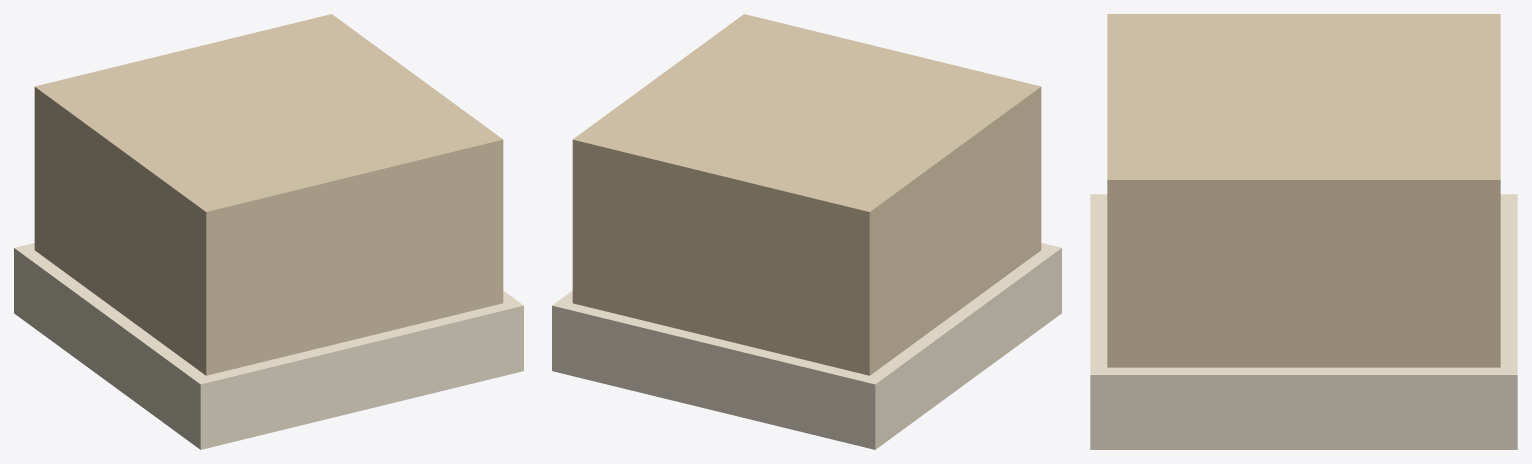
The model's file is viking_peles_manga_inf.glb.
3 renders of one model, left to right at view 1: azimuth 30°, elevation 25°; view 2: azimuth 150°, elevation 25°; view 3: azimuth 270°, elevation 25°, orthographic. The views are drawn at different scales.
Visible parts, largest first — view 1: viking_peles_manga_inf; view 2: viking_peles_manga_inf; view 3: viking_peles_manga_inf.
Boxes of the visible parts, left/top/right/bottom form: viking_peles_manga_inf: left=14, top=14, right=523, bottom=449; viking_peles_manga_inf: left=552, top=14, right=1061, bottom=449; viking_peles_manga_inf: left=1090, top=14, right=1517, bottom=449.
Size of the model in its own units: 0.31 by 0.21 by 0.31.
